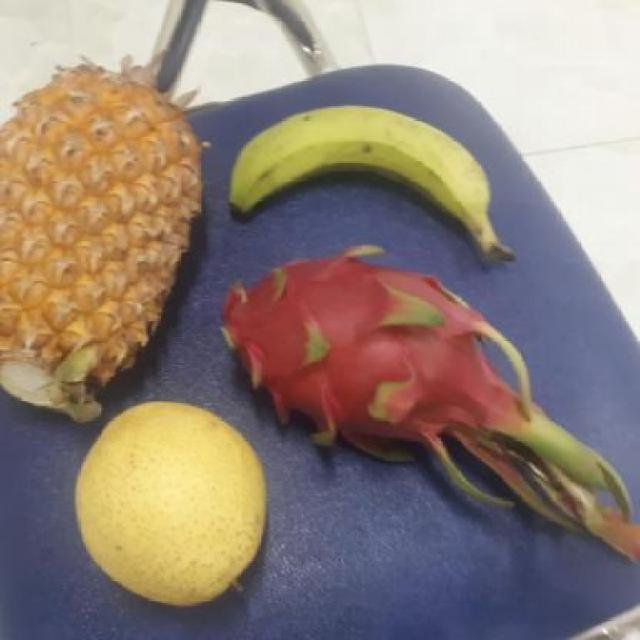banana: (221, 106, 495, 263)
dragon fruit: (192, 249, 511, 457)
pear: (64, 400, 268, 603)
pineapple: (0, 67, 188, 413)
